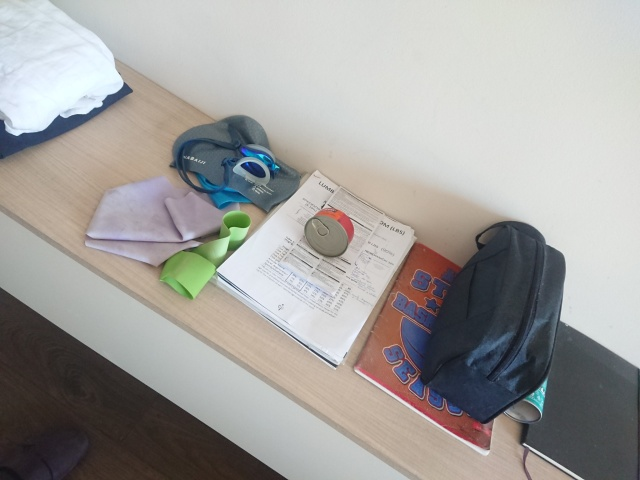Gavrilovic Pork Liver Pate 100g: (301, 205, 356, 259)
